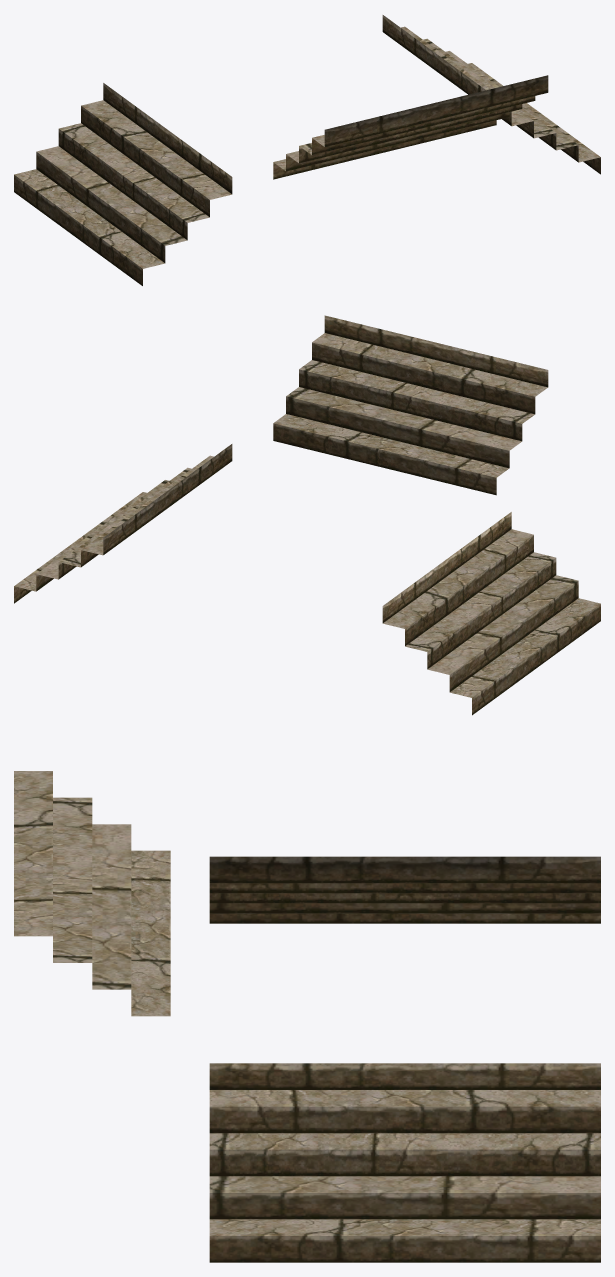
The model's file is OVERHILL_A_01_OH_TRI_STAIR_827.fbx.
3 renders of one model, top to bottom at view 1: azimuth 30°, elevation 25°; view 2: azimuth 150°, elevation 25°; view 3: azimuth 270°, elevation 25°, orthographic. The views are drawn at different scales.
Visible parts, largest first — view 1: OVERHILL_A_01_OH_TRI_STAIR_827; view 2: OVERHILL_A_01_OH_TRI_STAIR_827; view 3: OVERHILL_A_01_OH_TRI_STAIR_827.
Part boxes in pixels (x1,y1,x2,y2): OVERHILL_A_01_OH_TRI_STAIR_827: [14, 15, 600, 285]; OVERHILL_A_01_OH_TRI_STAIR_827: [14, 315, 600, 715]; OVERHILL_A_01_OH_TRI_STAIR_827: [14, 771, 600, 1262].
Size of the model in its own units: 82000 by 30000 by 60000.
Materials: 1 (1 with a texture image).
